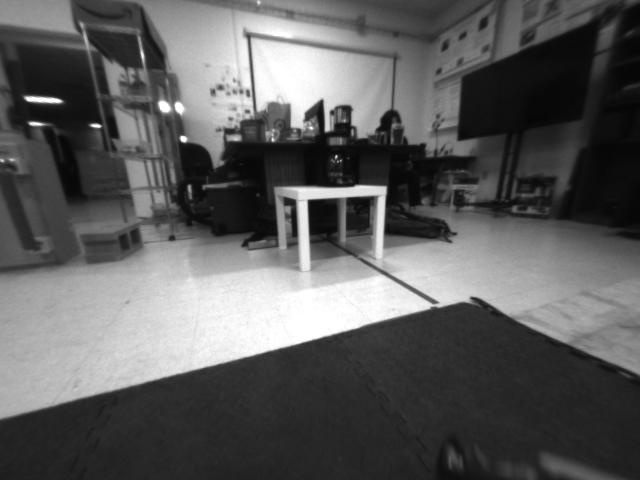coffee_pot: (314, 132, 362, 190)
